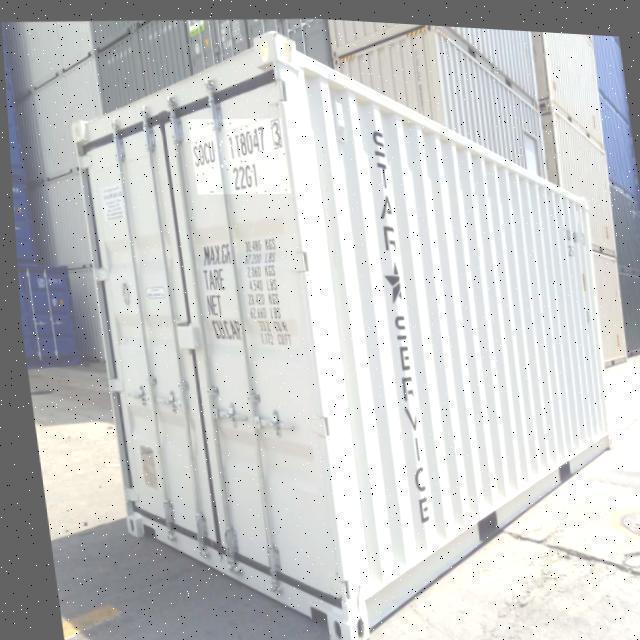ISO: (228, 166, 268, 187)
container_number: (188, 119, 283, 162)
